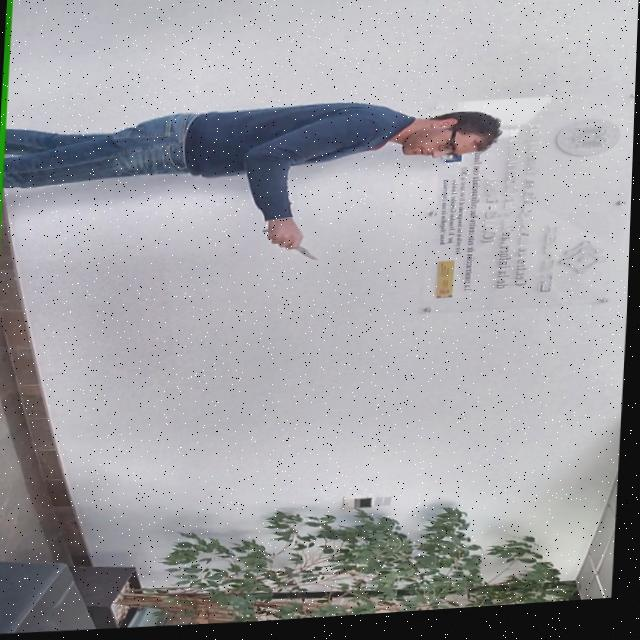knife: (293, 248, 322, 267)
